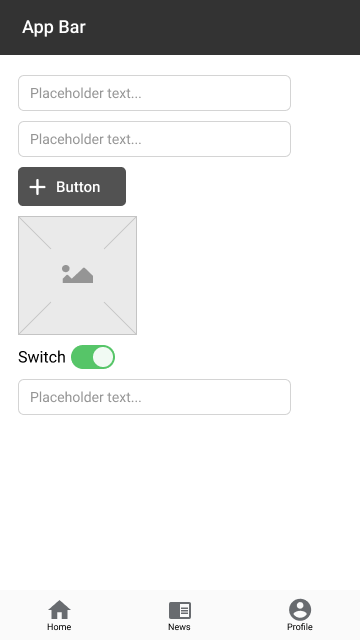buttonImage: (17, 165, 128, 208)
editText: (17, 377, 293, 417), (18, 120, 291, 159), (18, 75, 293, 112)
imageView: (15, 214, 139, 337)
navigationButton: (3, 594, 360, 638)
switch: (14, 344, 118, 370)
toolbar: (2, 1, 360, 56)
